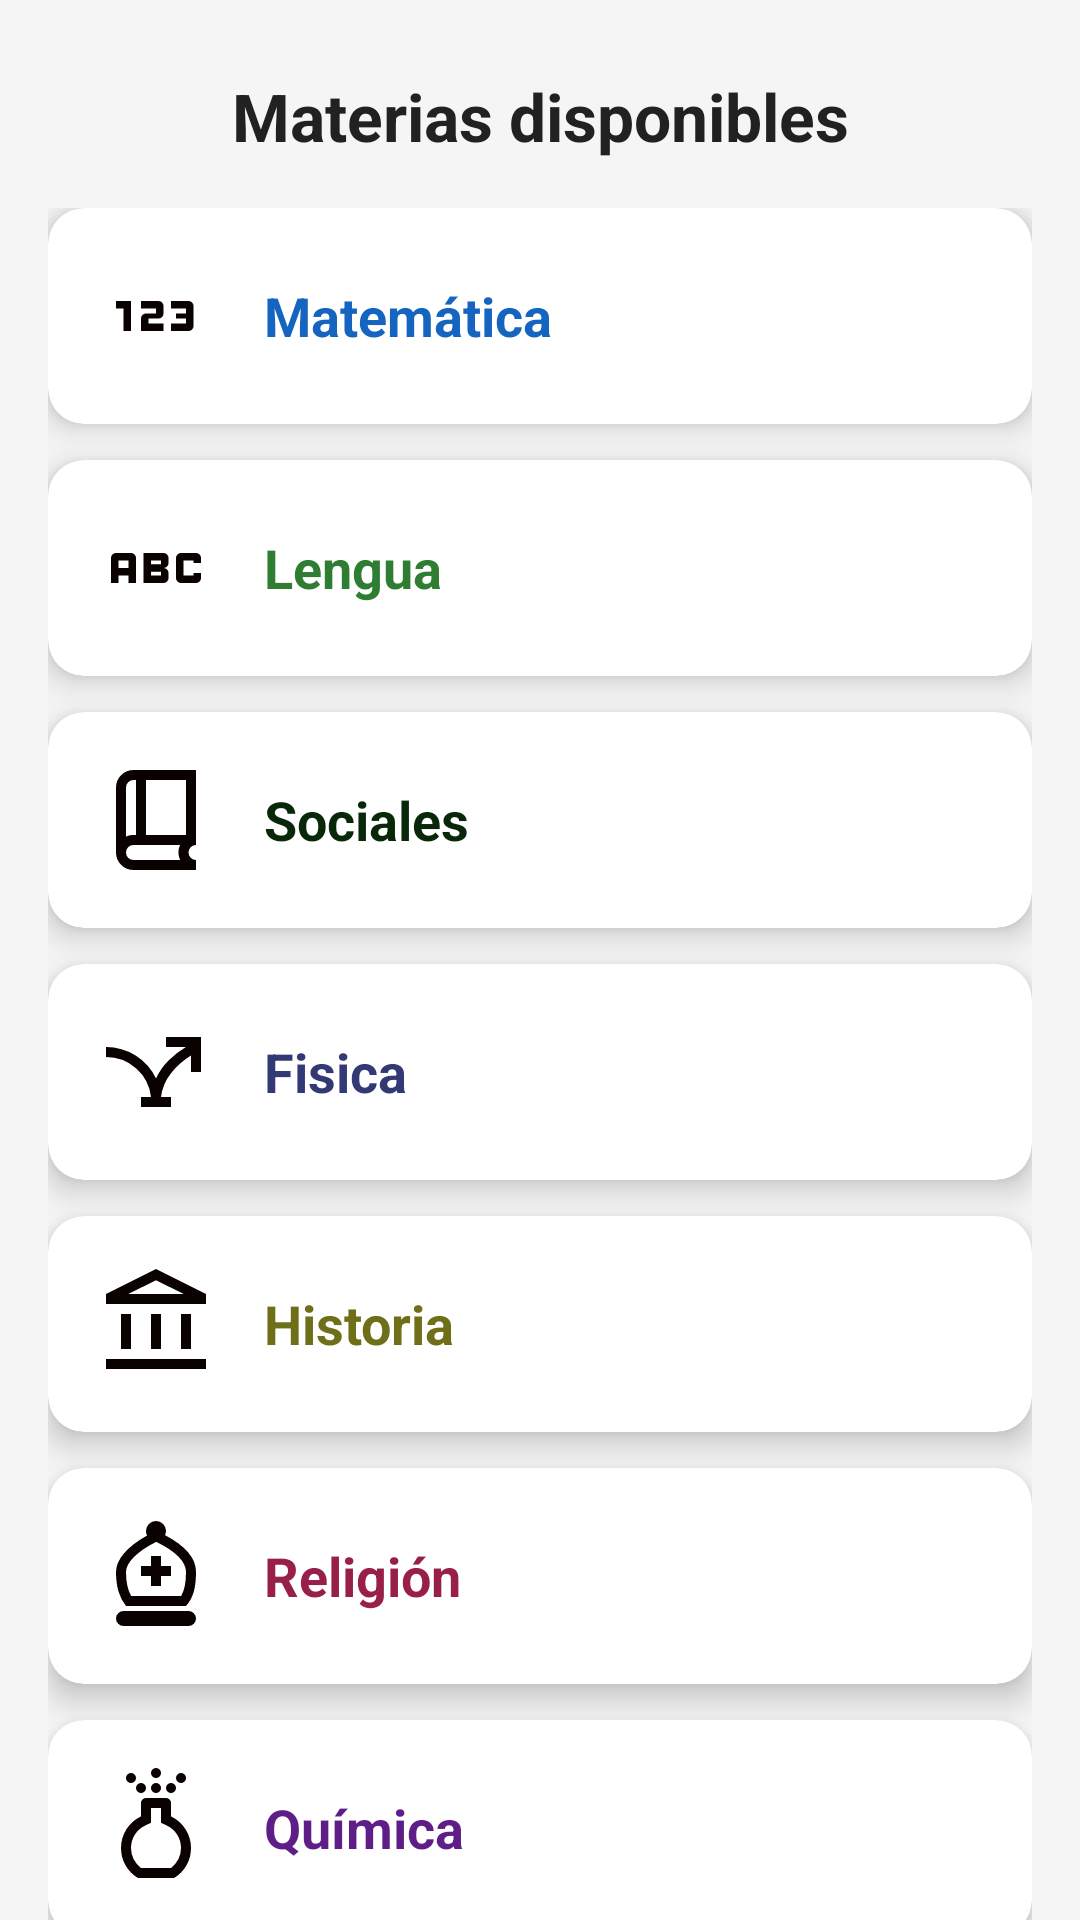

Icon click points for this 1080×1920 phone screenshot, format point (x, y):
matematica: point (155, 316)
quimica: point (156, 1823)
religion: point (156, 1573)
